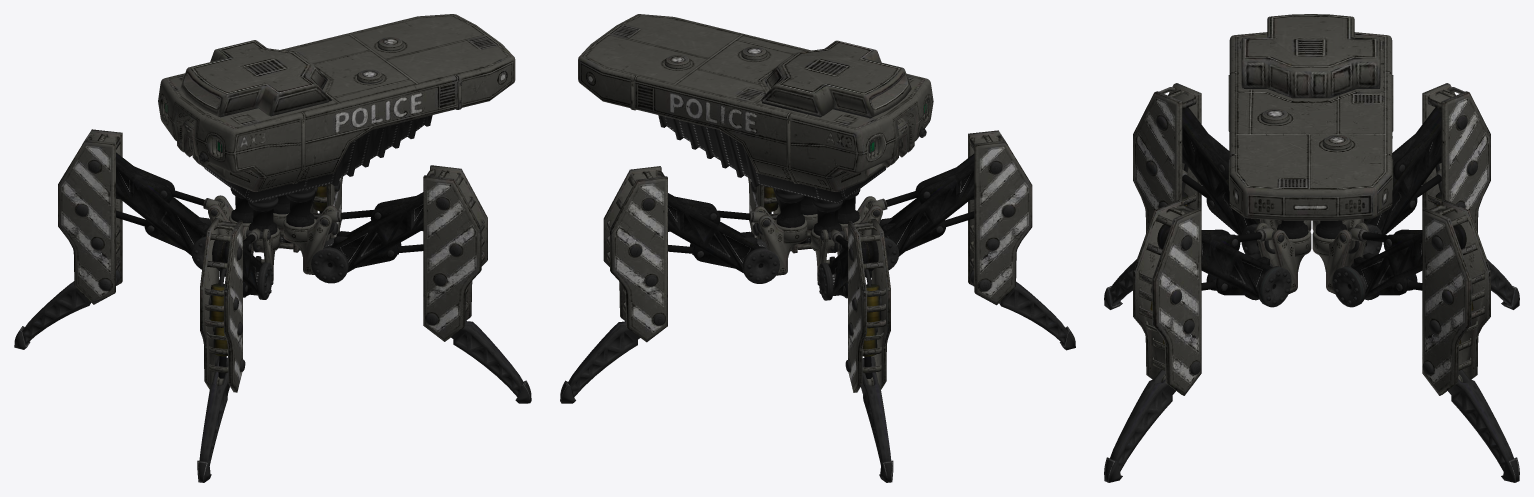
File: robot.obj
3 views of the same model, side by side, from view 1: azimuth 30°, elevation 25°; view 2: azimuth 150°, elevation 25°; view 3: azimuth 270°, elevation 25° (orthographic). The views are drawn at different scales.
Parts seen in each view (by area): view 1: robot; view 2: robot; view 3: robot.
Part boxes in pixels (<box>): robot: <box>14,14,531,482</box>; robot: <box>560,14,1075,482</box>; robot: <box>1104,14,1519,482</box>.
Size of the model in its own units: 3.04 by 2.34 by 2.59.
1 material, 1 textured.
